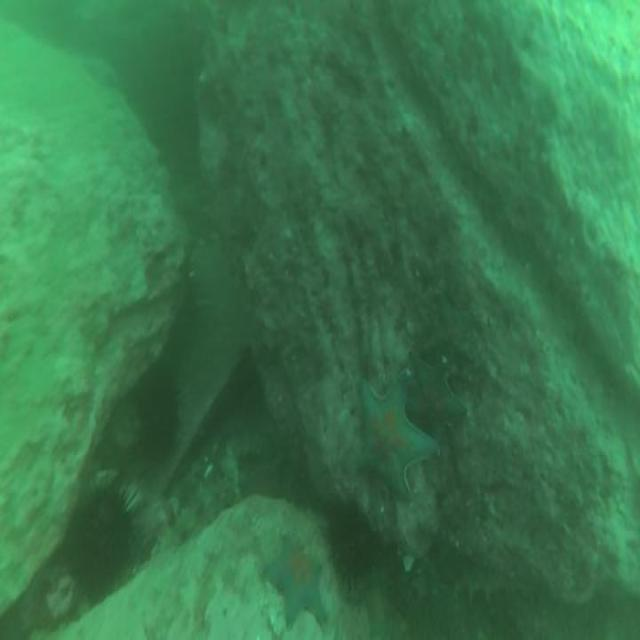echinus: (68, 484, 136, 604), (131, 370, 185, 474), (324, 494, 378, 588)
holothurian: (452, 553, 514, 607)
starfish: (356, 370, 434, 510), (262, 533, 328, 635), (402, 345, 468, 436)
